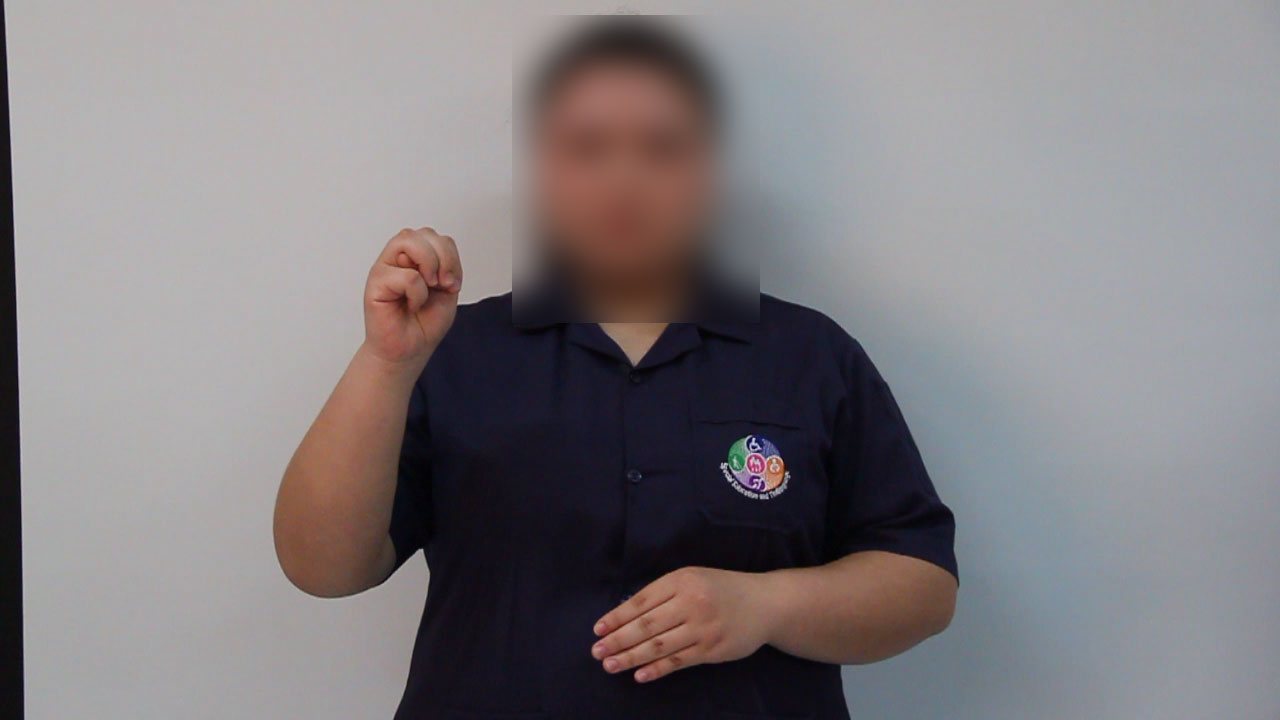mor: (361, 211, 469, 377)
